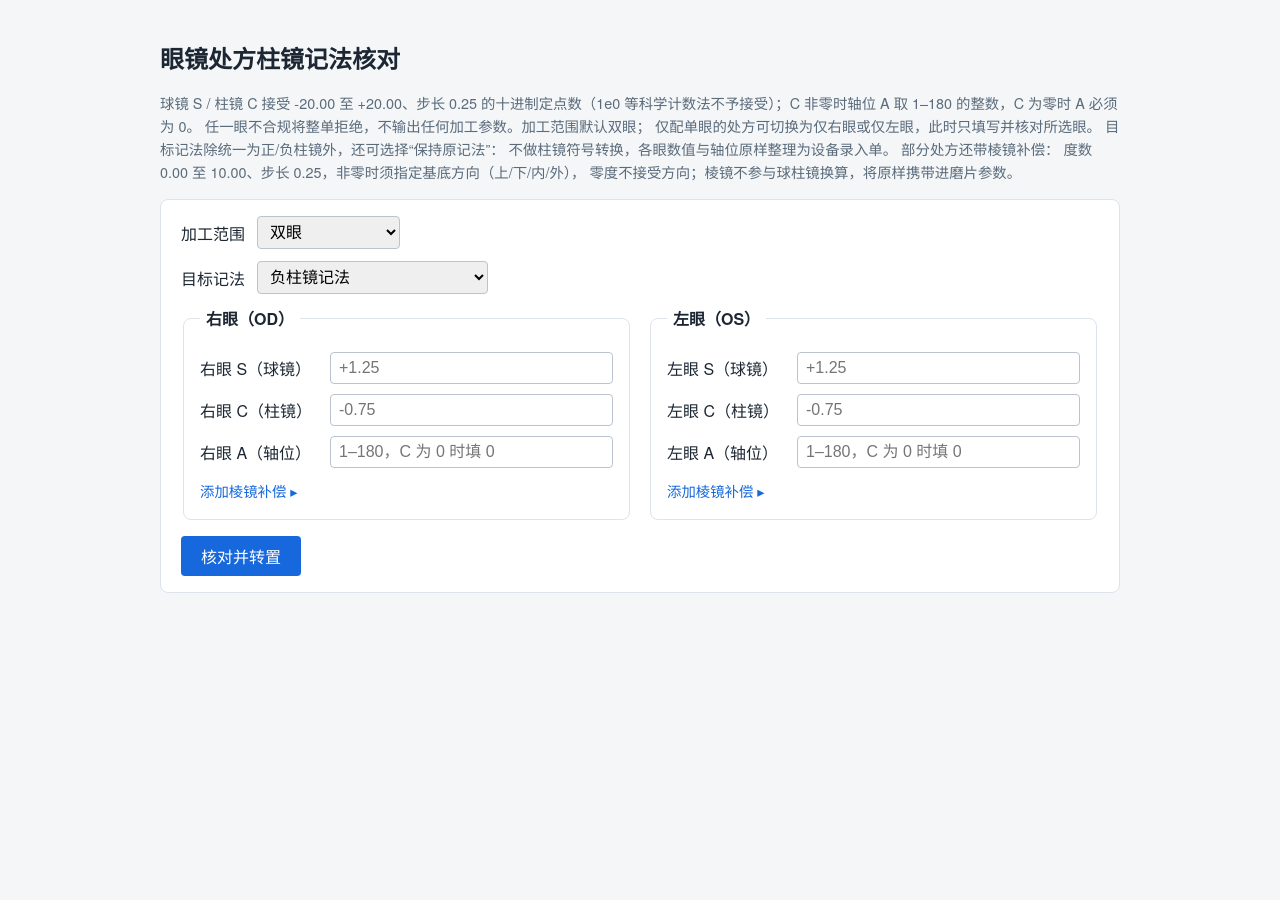
it: 双眼录入复核 › 仅在成功生成磨片参数后展示复核输入区
Check: the field labelled "双眼录入复核" is not shown
Type "1.00" into the field labelled "右眼 S（球镜）" at (472, 368), box left=330, top=352, right=613, bottom=384
Type "2.00" into the field labelled "右眼 C（柱镜）" at (472, 410), box left=330, top=394, right=613, bottom=426
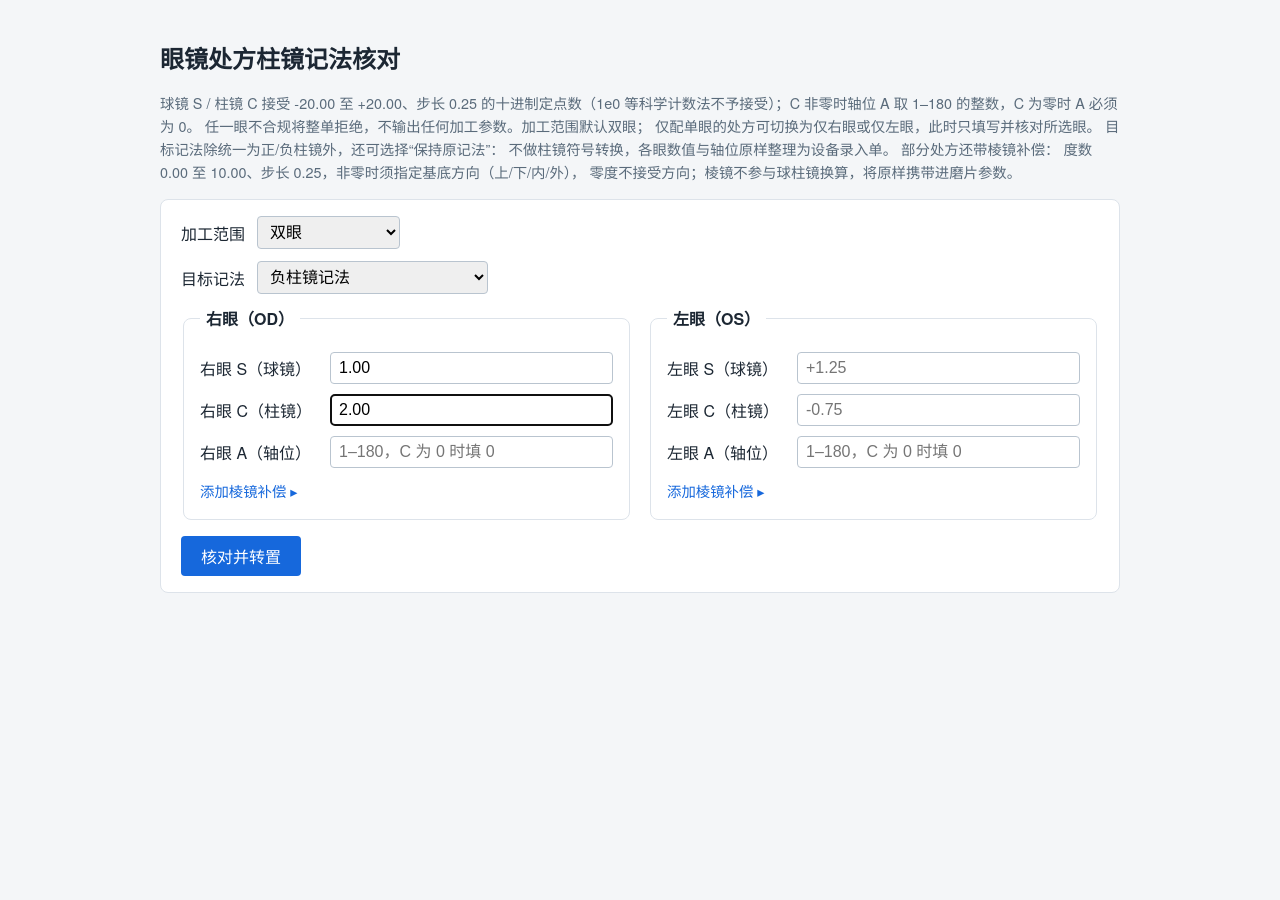
Type "30" into the field labelled "右眼 A（轴位）" at (472, 452), box left=330, top=436, right=613, bottom=468
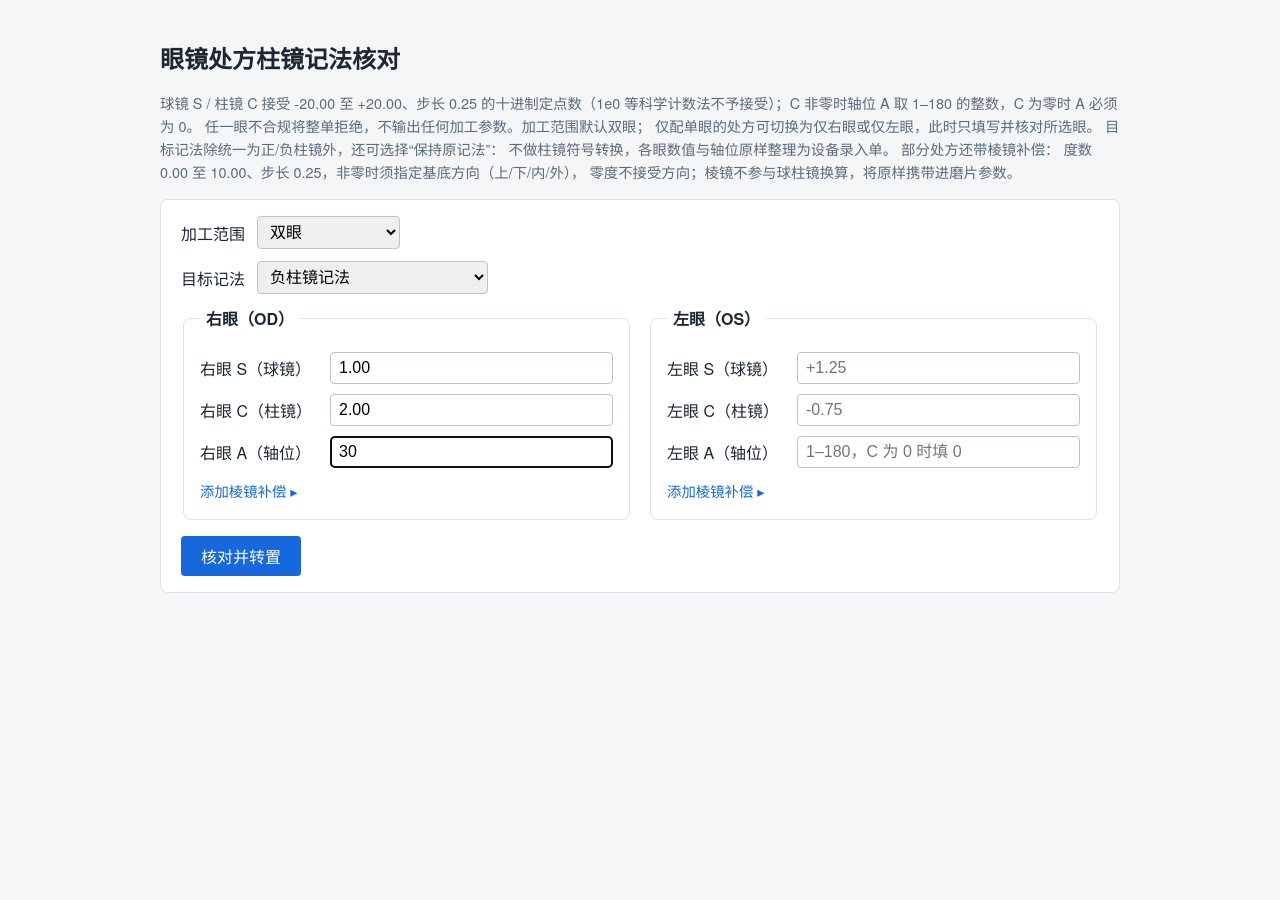
Type "-1.25" into the field labelled "左眼 S（球镜）" at (938, 368), box left=797, top=352, right=1080, bottom=384
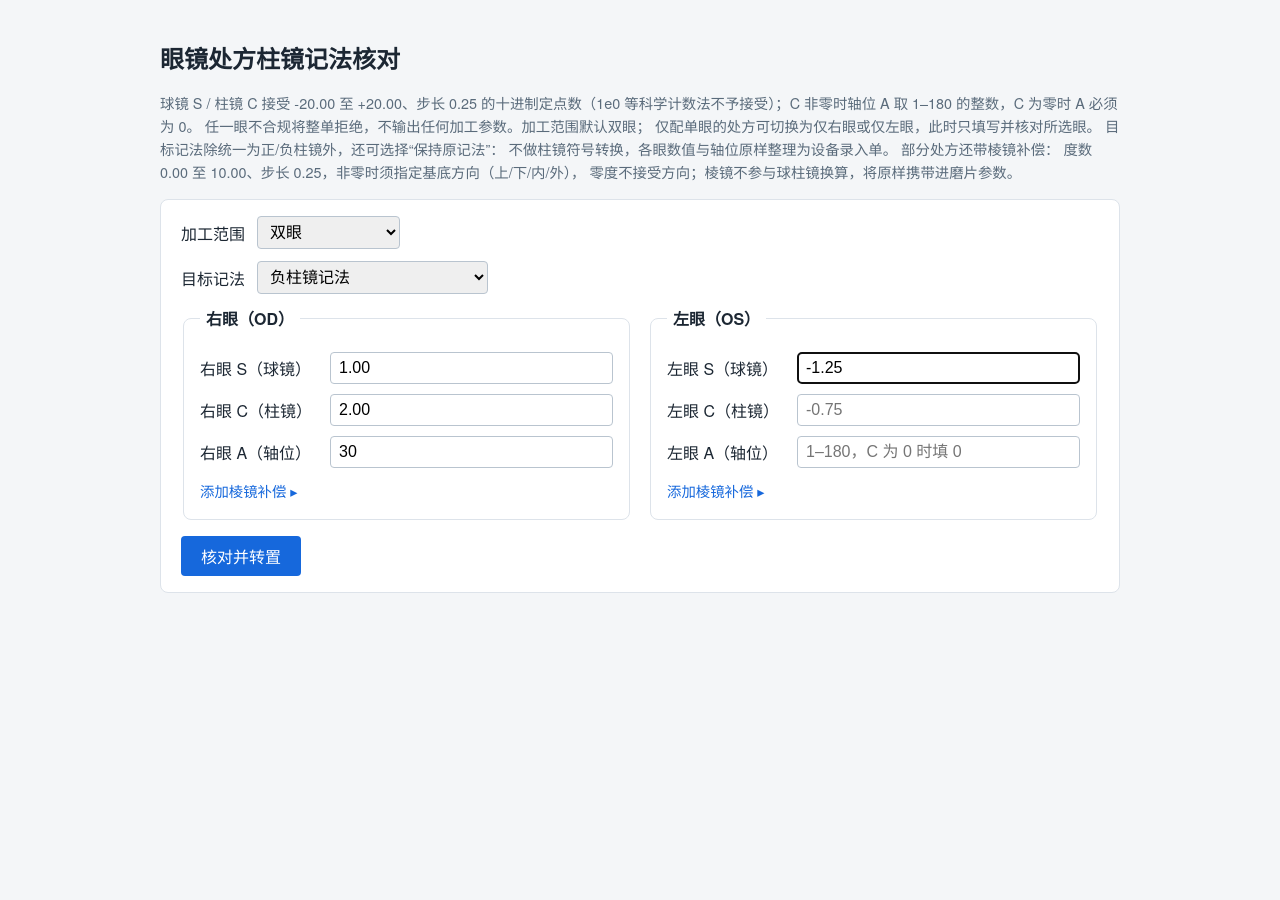
Type "-0.50" into the field labelled "左眼 C（柱镜）" at (938, 410), box left=797, top=394, right=1080, bottom=426
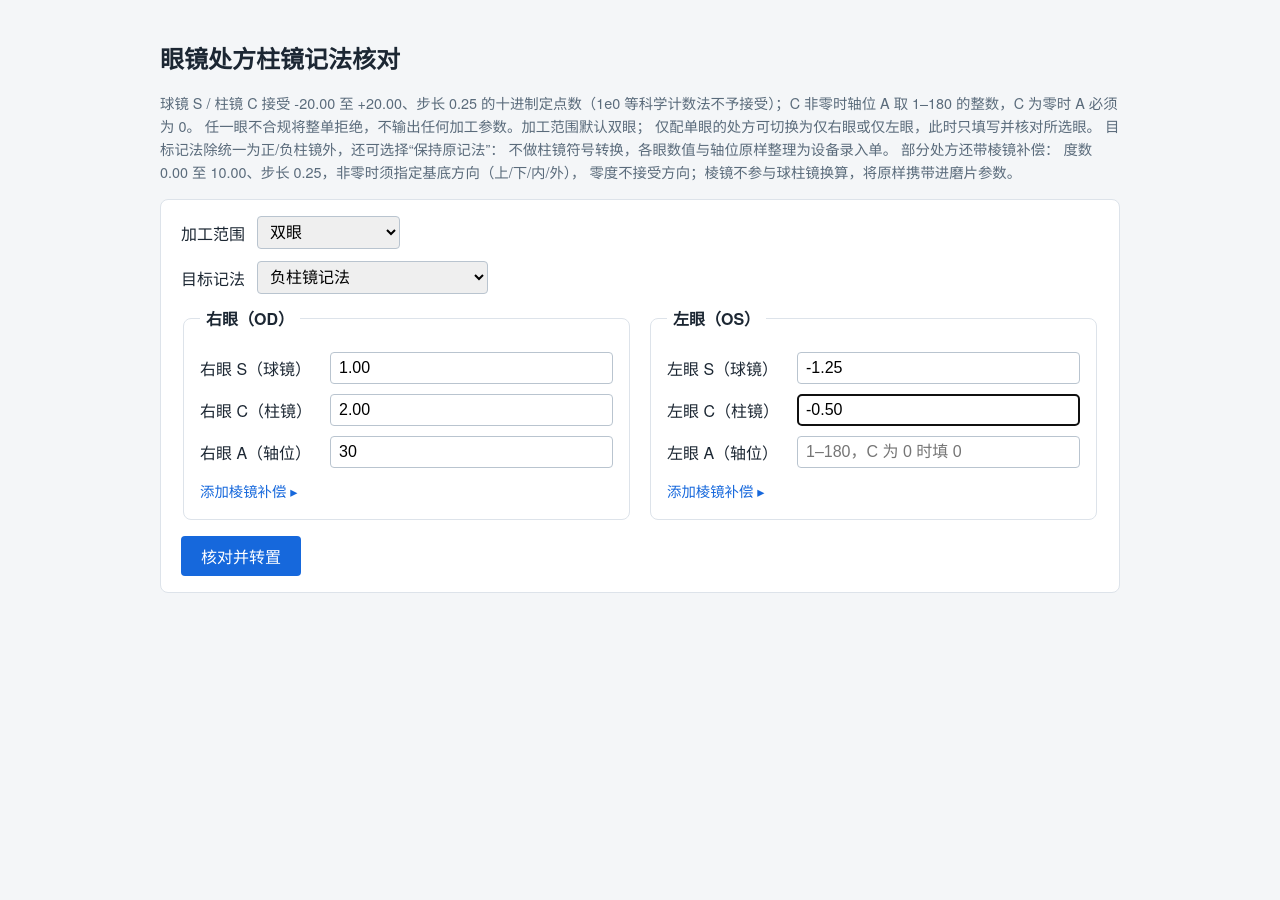
Type "85" into the field labelled "左眼 A（轴位）" at (938, 452), box left=797, top=436, right=1080, bottom=468
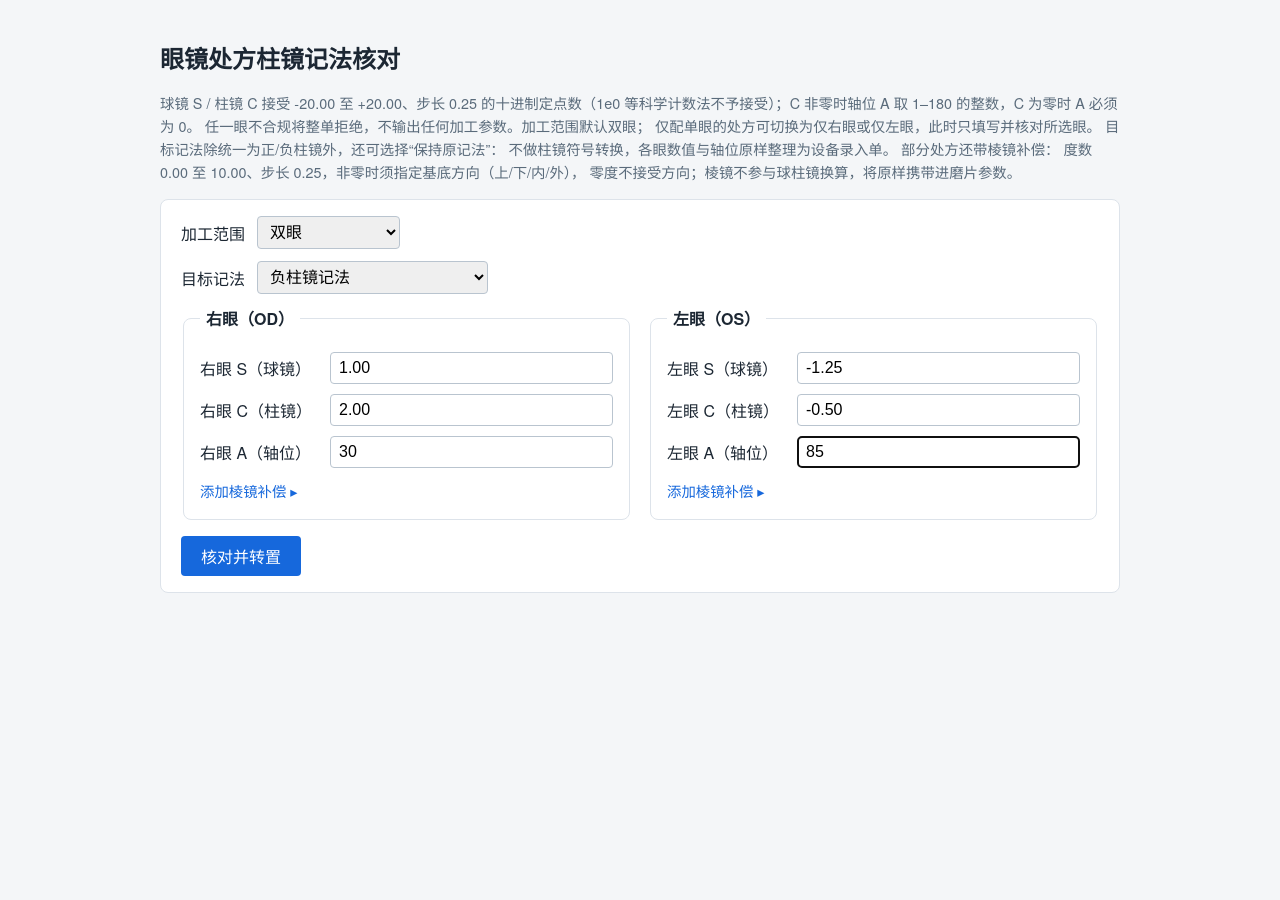
Click the button "核对并转置" at (241, 556), box left=181, top=536, right=301, bottom=576
(page scrolled)
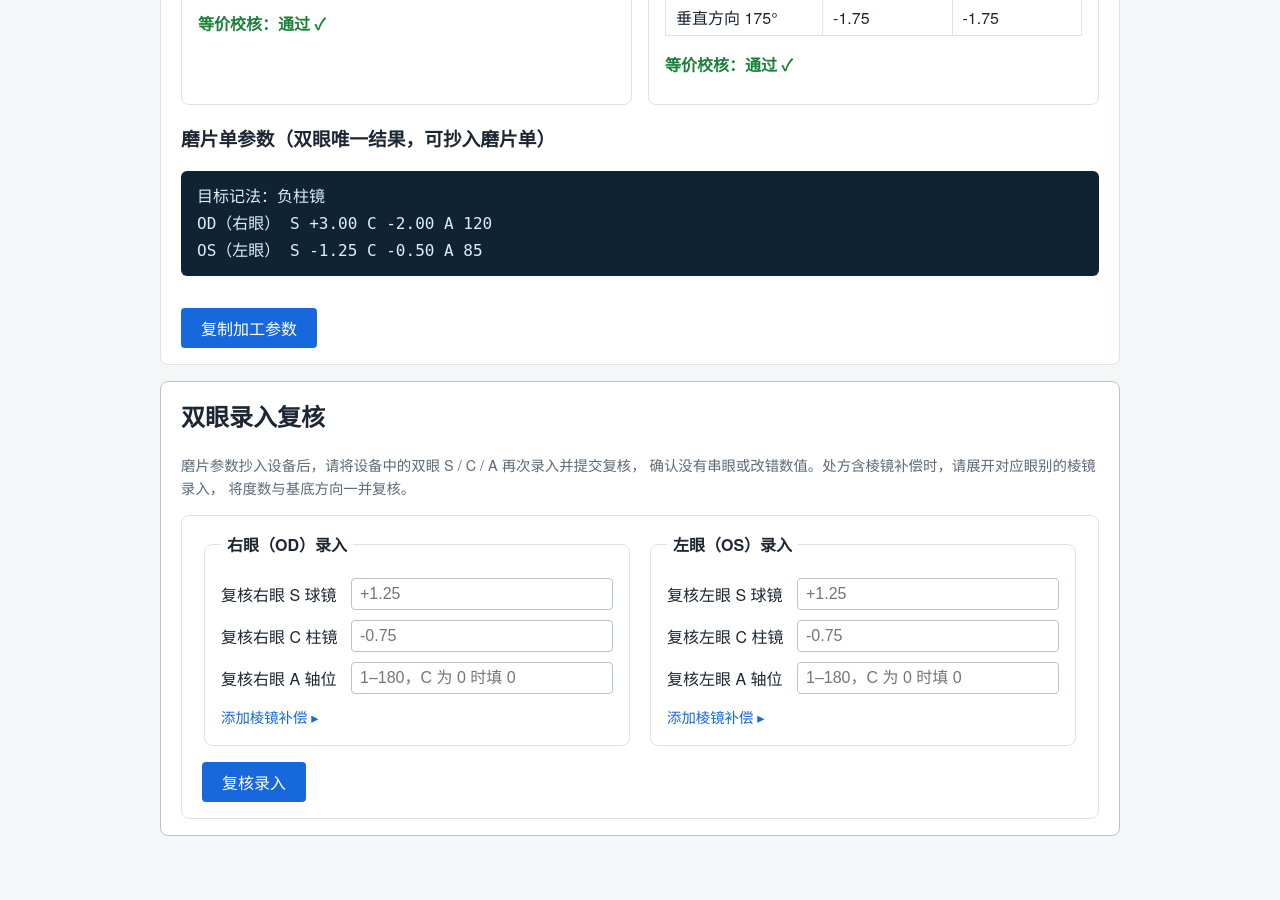
Check: the element labelled "双眼录入复核" is shown, box left=160, top=381, right=1120, bottom=836
